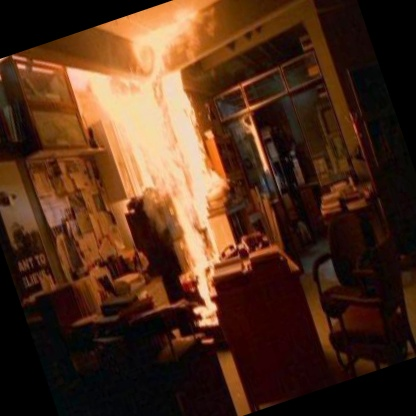fire: (57, 3, 291, 351)
